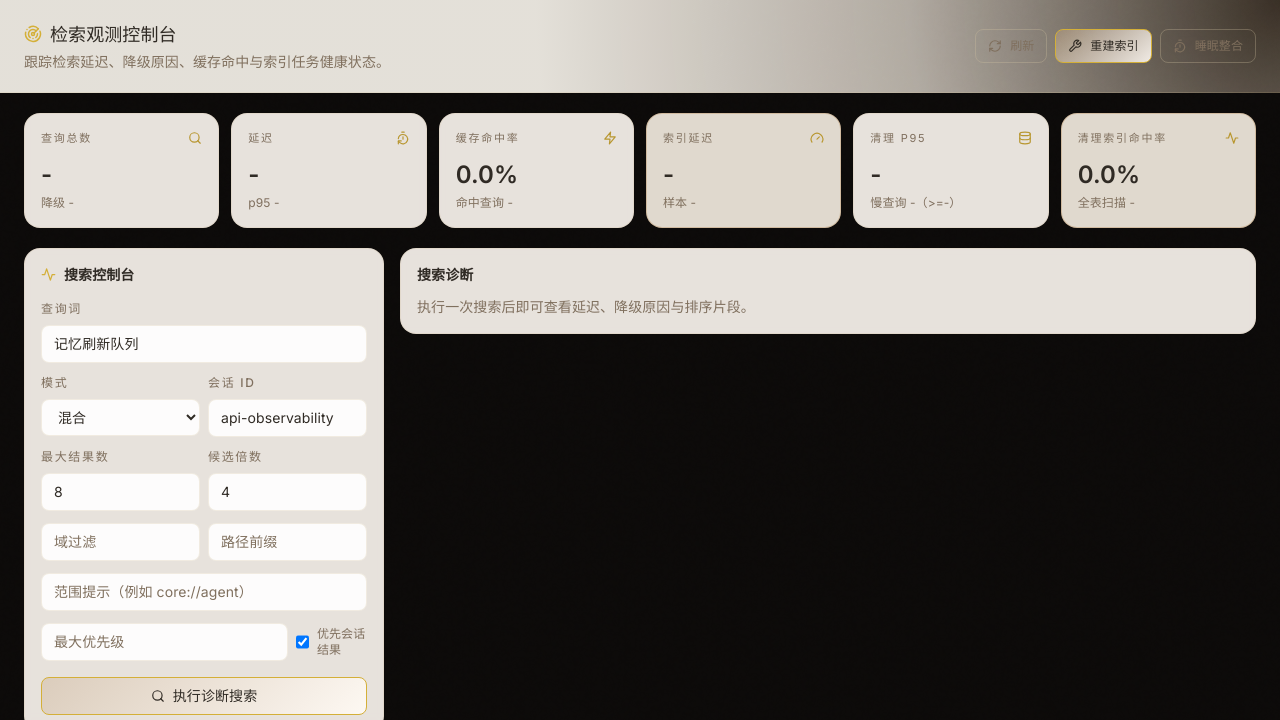
ObservabilityPage › localizes dynamic runtime, job, and diagnostic tokens in zh-CN
Click the button "执行诊断搜索".
click(204, 696)  # box [41,676,367,714]
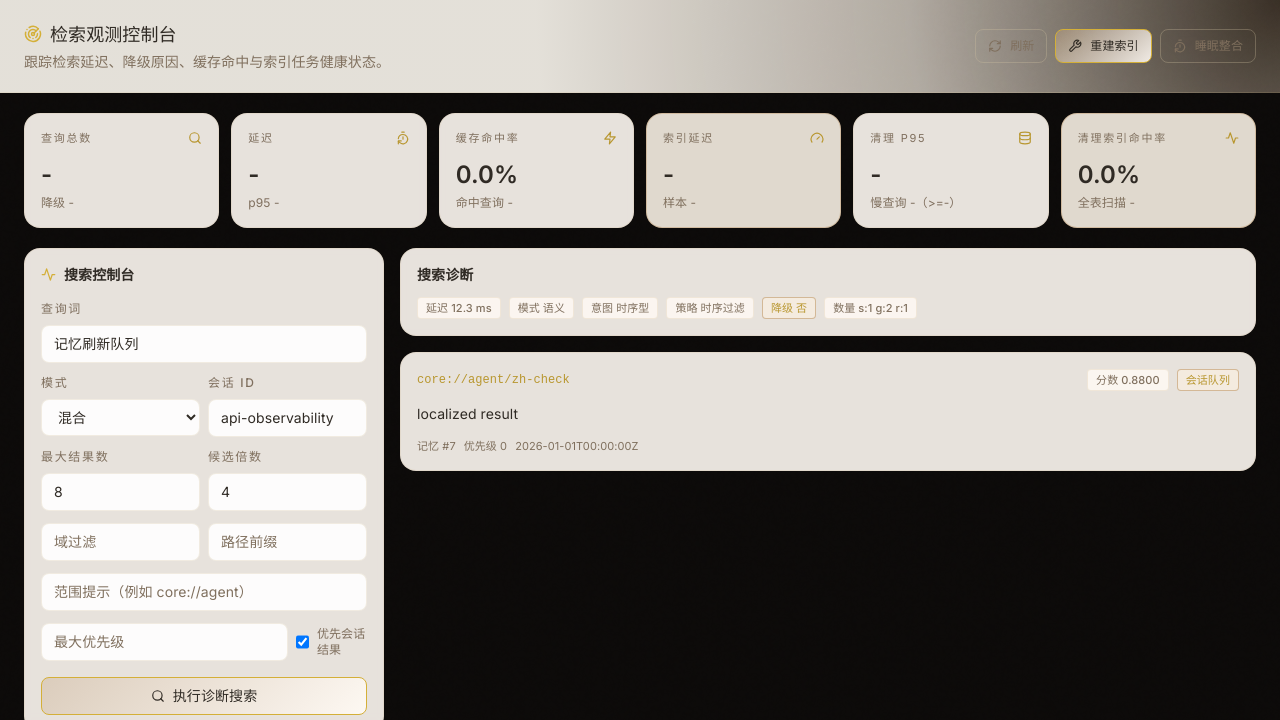
Expected: the text "模式 语义" is shown, [509,296,574,318]
Expected: the text "意图 时序型" is shown, [582,296,658,318]
Expected: the text "策略 时序过滤" is shown, [666,296,754,318]
